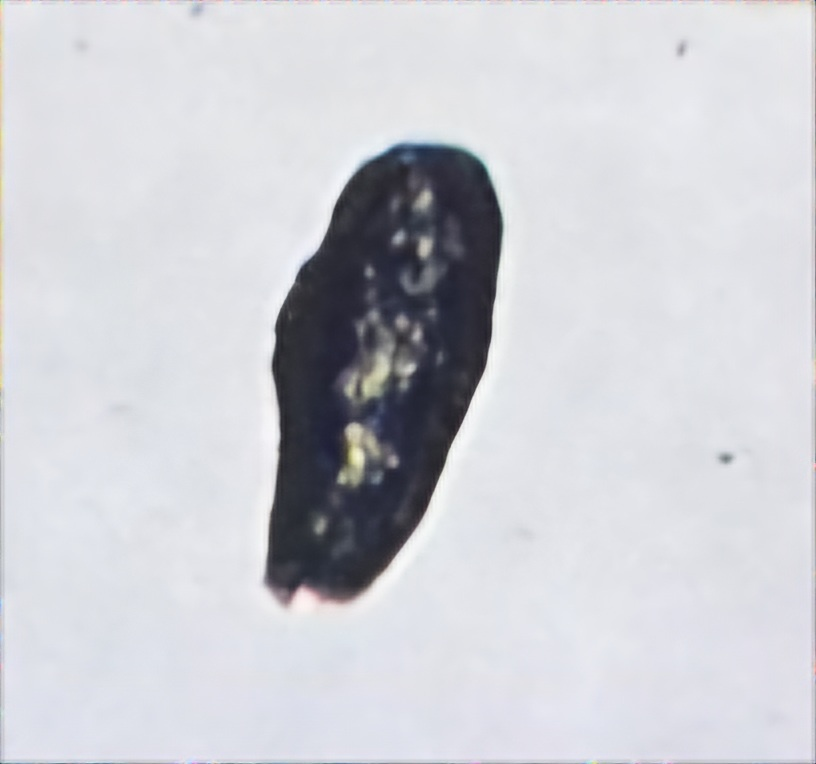microplastic: (262, 141, 506, 610)
